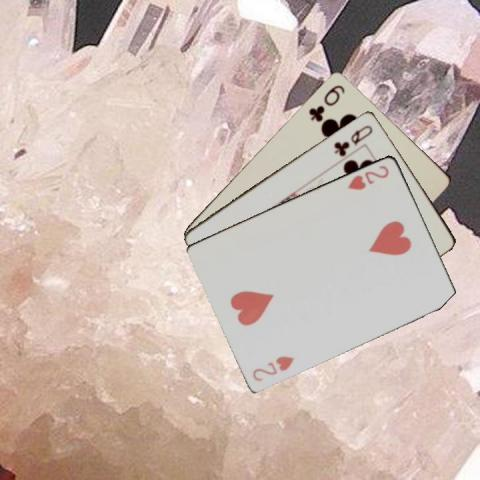2h: (249, 352, 296, 383), (344, 162, 390, 191)
6c: (305, 82, 347, 123)
Qc: (330, 122, 374, 158)
